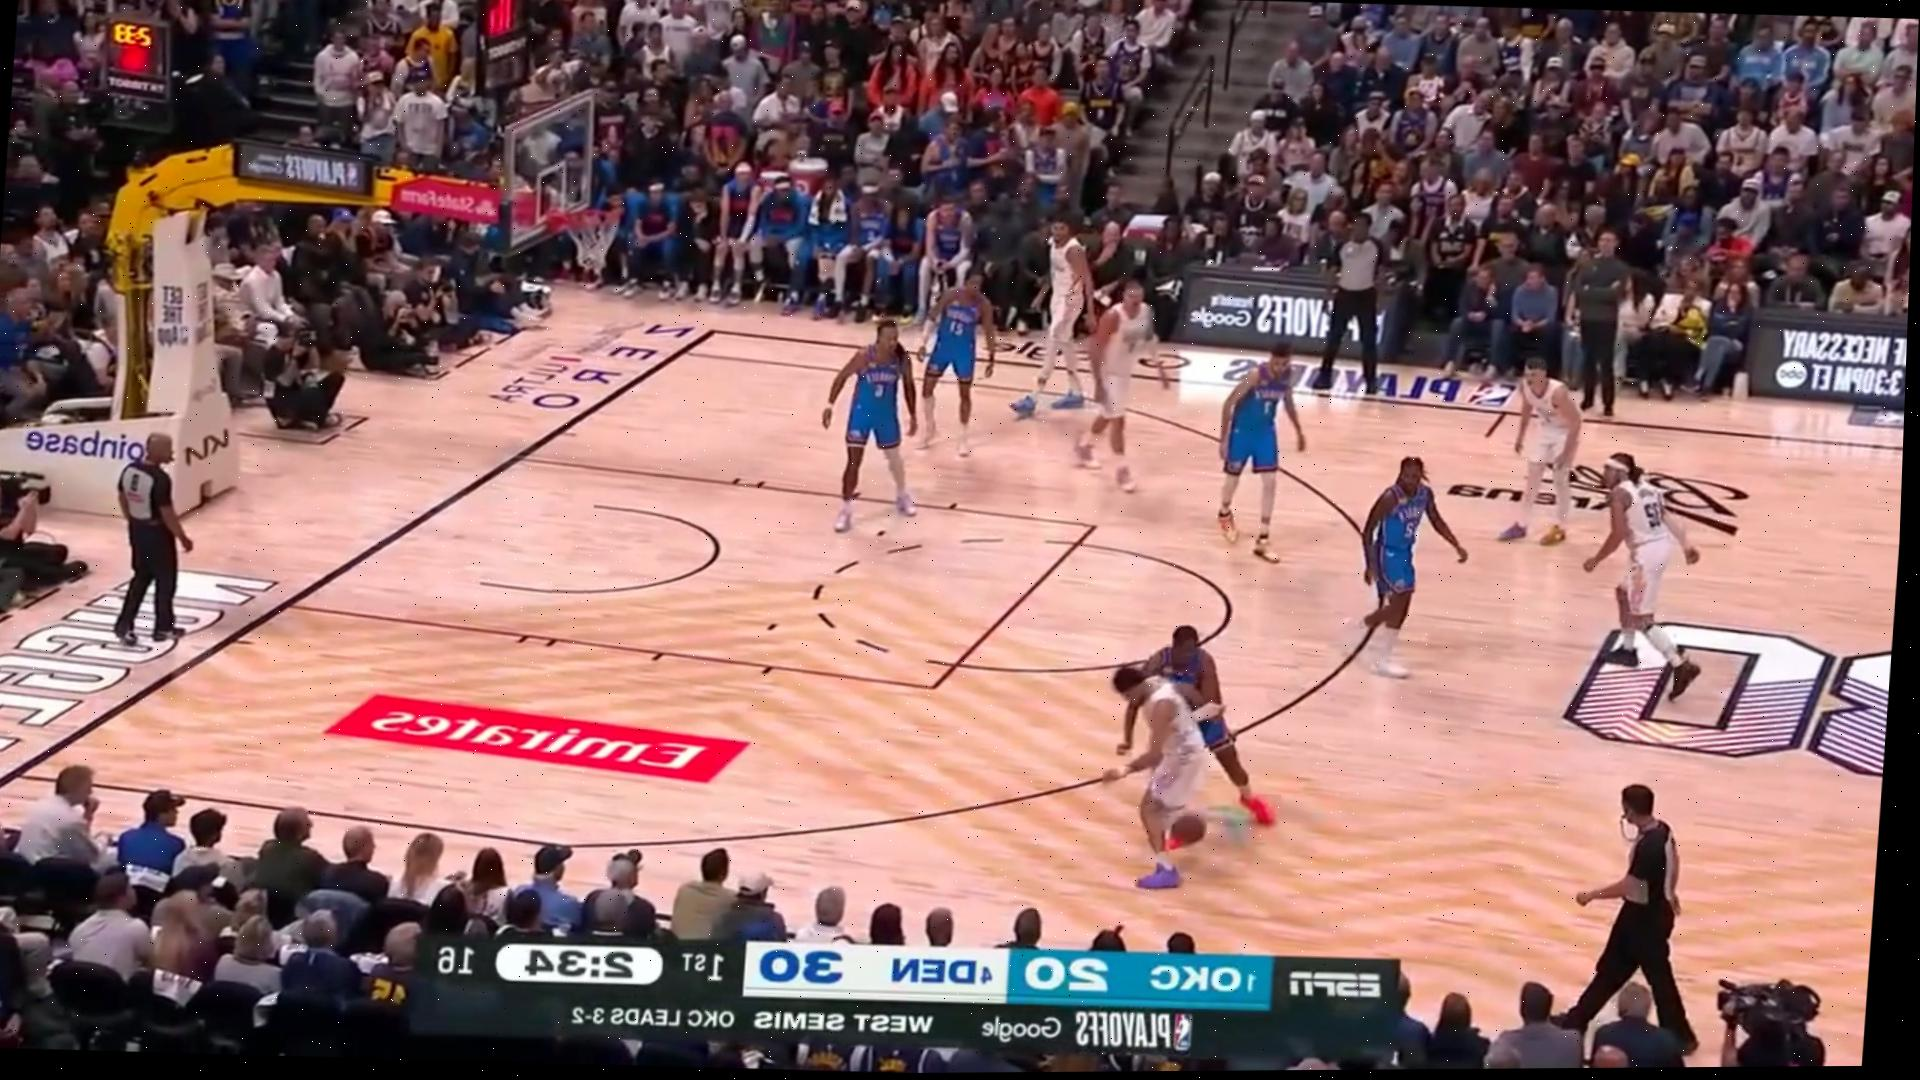foul: (1056, 606, 1289, 898)
